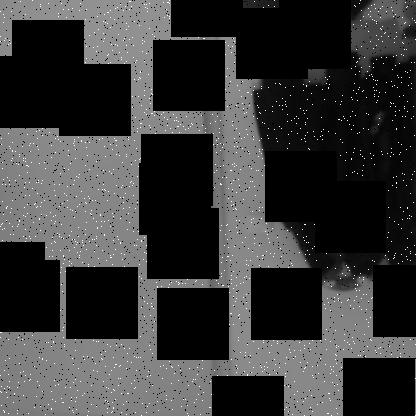Porte: (0, 1, 236, 415)
